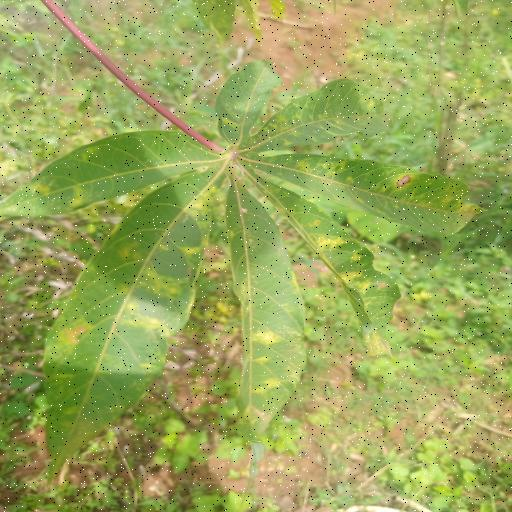Cassava_Mosaic: (5, 60, 488, 494)
